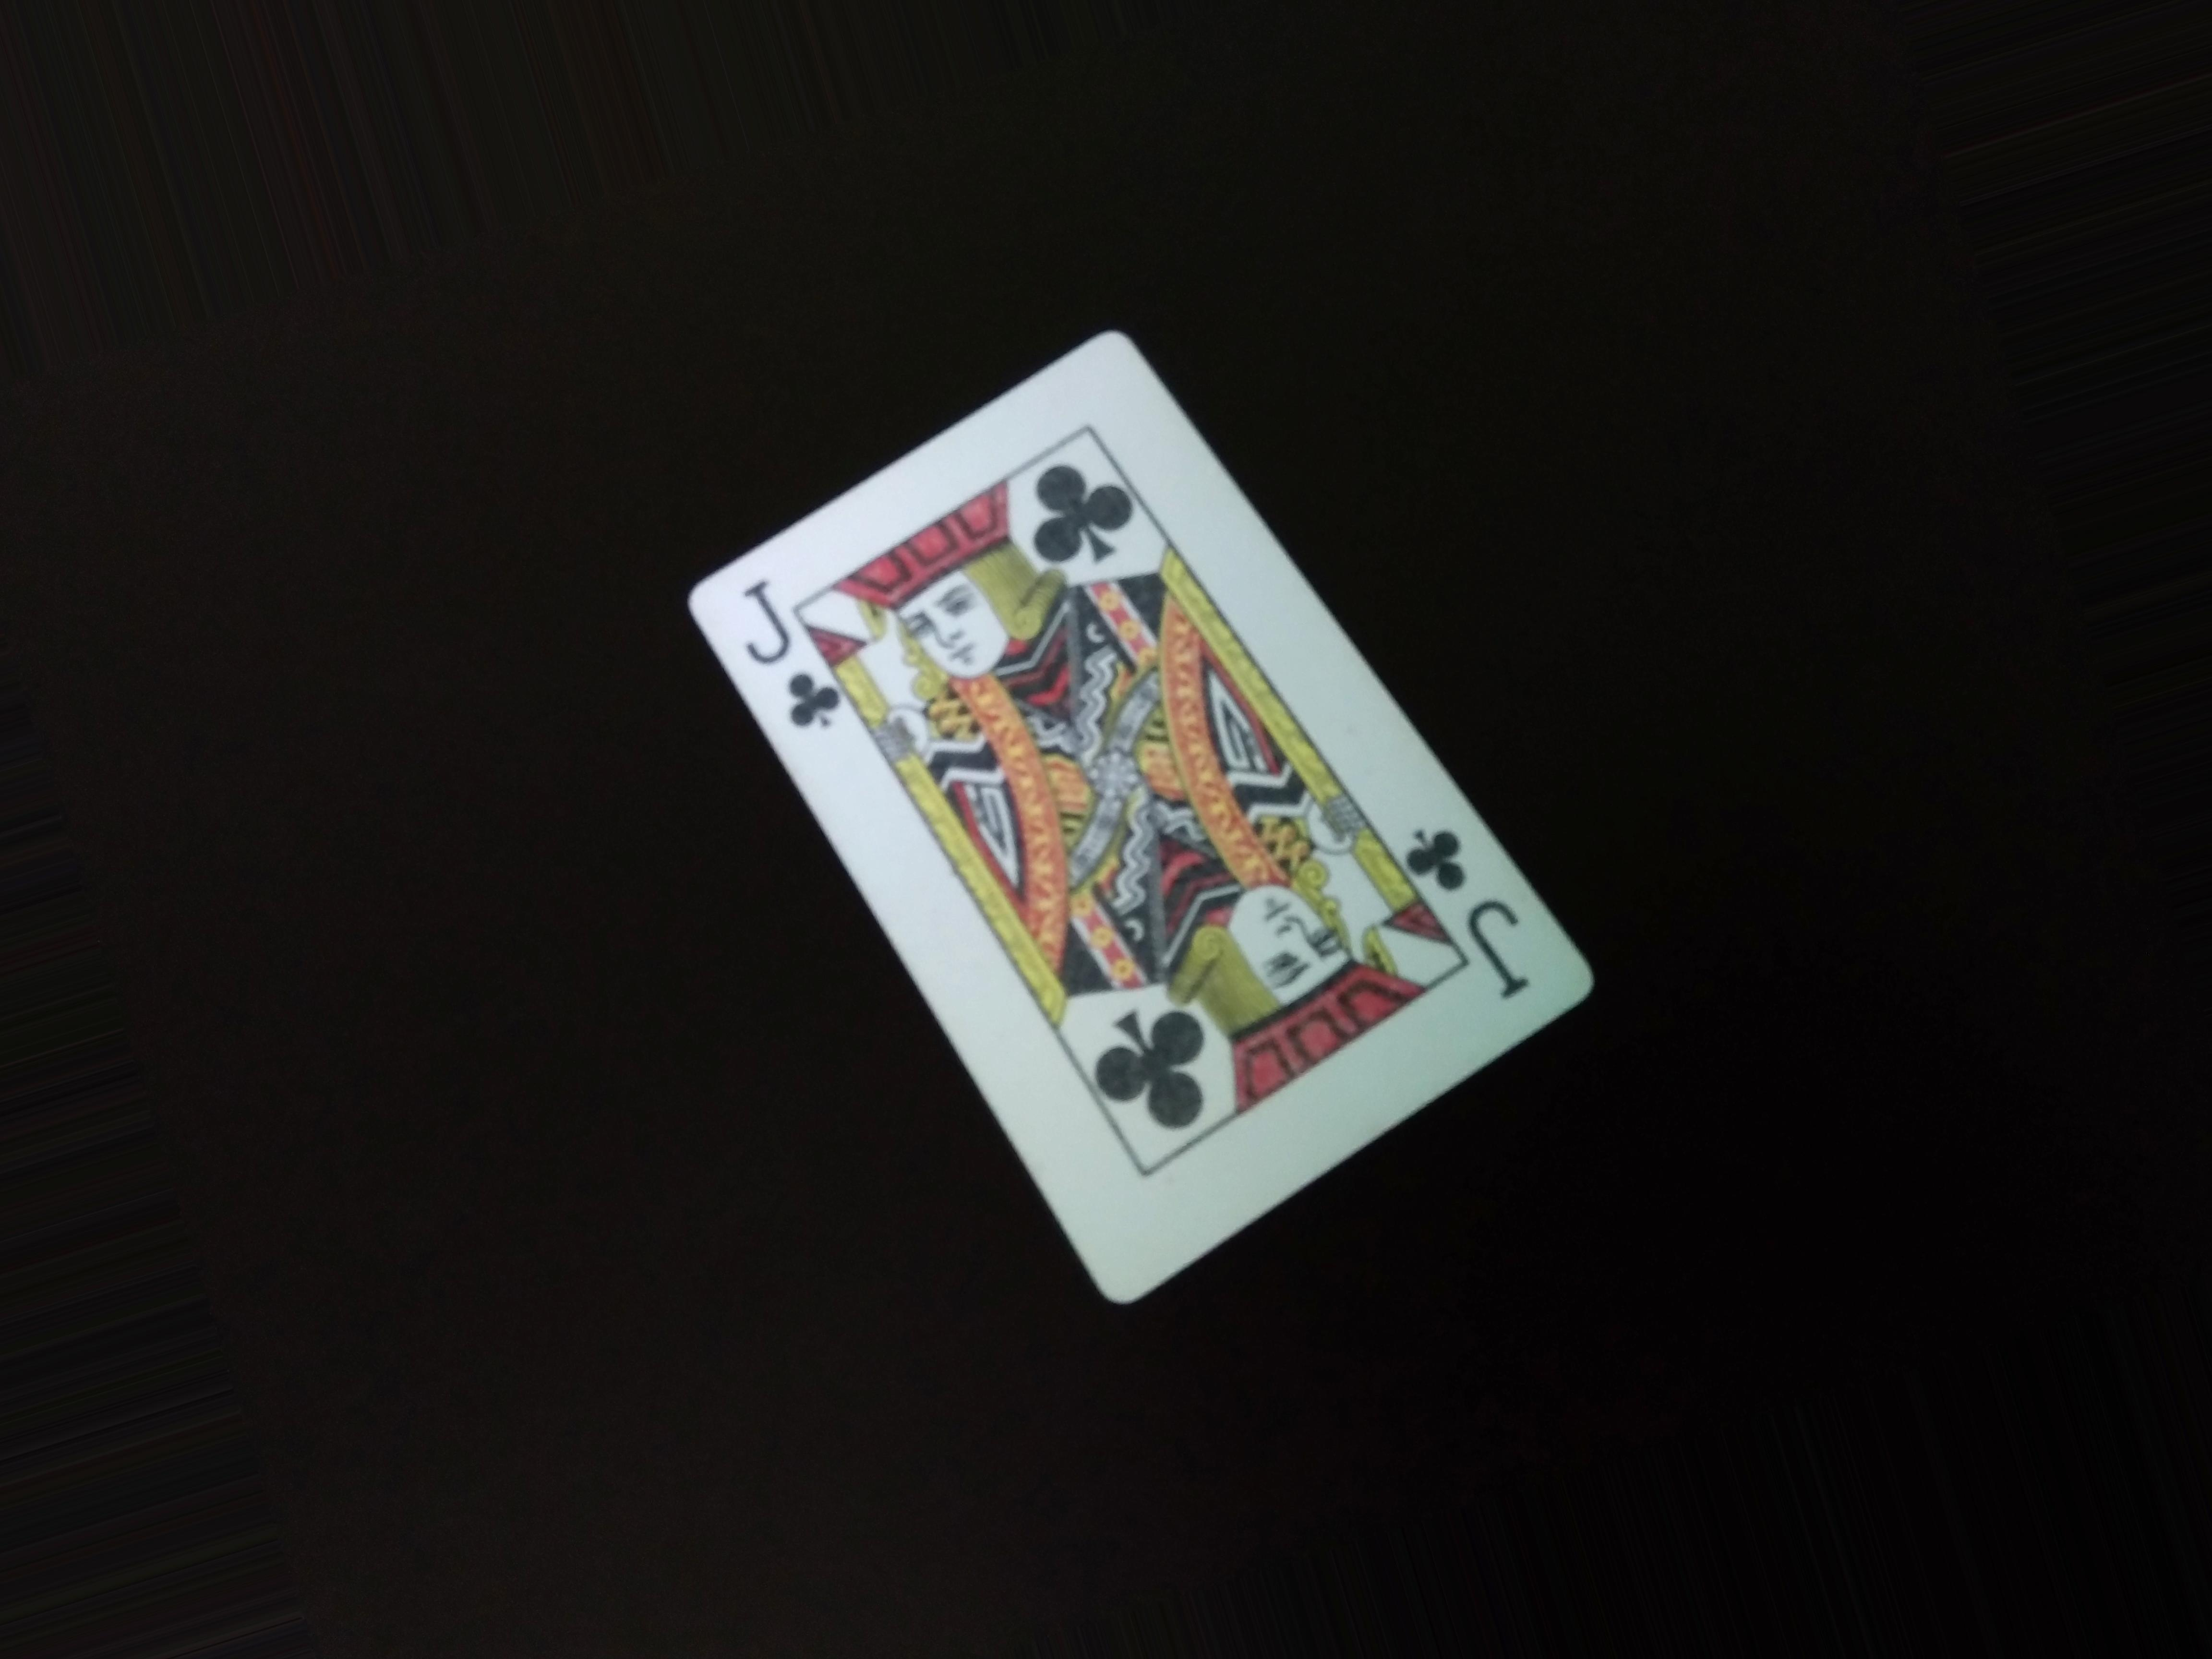JC: (732, 573, 831, 760)
